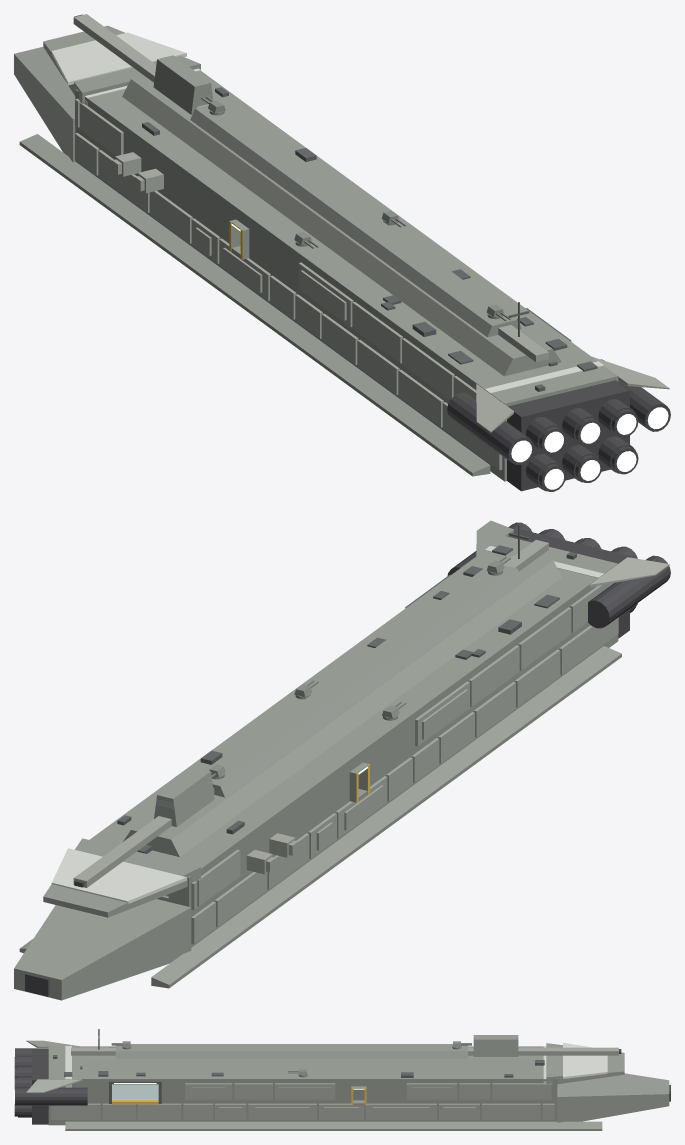
File: ship_SMALL_DROP_FRIGATE.glb
3 renders of one model, top to bottom at view 1: azimuth 30°, elevation 25°; view 2: azimuth 150°, elevation 25°; view 3: azimuth 270°, elevation 25°, orthographic. The views are drawn at different scales.
Parts seen in each view (by area): view 1: SMALL_DROP_FRIGATE_Hull-col, SMALL_DROP_FRIGATE_Armor, SMALL_DROP_FRIGATE_Engines, SMALL_DROP_FRIGATE_Accent, SMALL_DROP_FRIGATE_EngineGlow, SMALL_DROP_FRIGATE_Details; view 2: SMALL_DROP_FRIGATE_Hull-col, SMALL_DROP_FRIGATE_Armor, SMALL_DROP_FRIGATE_Engines, SMALL_DROP_FRIGATE_Accent, SMALL_DROP_FRIGATE_Details; view 3: SMALL_DROP_FRIGATE_Hull-col, SMALL_DROP_FRIGATE_Armor, SMALL_DROP_FRIGATE_Engines, SMALL_DROP_FRIGATE_Accent, SMALL_DROP_FRIGATE_CargoBayDoor-col, SMALL_DROP_FRIGATE_CargoBayShield, SMALL_DROP_FRIGATE_Details, SMALL_DROP_FRIGATE_Trim, SMALL_DROP_FRIGATE_Hazard.
Boxes of the visible parts, bbox=[...] form: SMALL_DROP_FRIGATE_Hull-col: bbox=[14, 25, 618, 481]; SMALL_DROP_FRIGATE_Armor: bbox=[73, 14, 669, 470]; SMALL_DROP_FRIGATE_Engines: bbox=[74, 14, 670, 491]; SMALL_DROP_FRIGATE_Accent: bbox=[51, 32, 603, 393]; SMALL_DROP_FRIGATE_EngineGlow: bbox=[511, 407, 668, 489]; SMALL_DROP_FRIGATE_Details: bbox=[142, 87, 597, 391]; SMALL_DROP_FRIGATE_Hull-col: bbox=[14, 536, 621, 1000]; SMALL_DROP_FRIGATE_Armor: bbox=[73, 520, 669, 943]; SMALL_DROP_FRIGATE_Engines: bbox=[25, 522, 670, 996]; SMALL_DROP_FRIGATE_Accent: bbox=[51, 546, 603, 903]; SMALL_DROP_FRIGATE_Details: bbox=[117, 524, 576, 853]; SMALL_DROP_FRIGATE_Hull-col: bbox=[48, 1035, 669, 1130]; SMALL_DROP_FRIGATE_Armor: bbox=[26, 1040, 618, 1119]; SMALL_DROP_FRIGATE_Engines: bbox=[14, 1048, 670, 1124]; SMALL_DROP_FRIGATE_Accent: bbox=[65, 1043, 607, 1087]; SMALL_DROP_FRIGATE_CargoBayDoor-col: bbox=[112, 1084, 158, 1099]; SMALL_DROP_FRIGATE_CargoBayShield: bbox=[112, 1084, 158, 1099]; SMALL_DROP_FRIGATE_Details: bbox=[53, 1029, 544, 1077]; SMALL_DROP_FRIGATE_Trim: bbox=[109, 1080, 161, 1103]; SMALL_DROP_FRIGATE_Hazard: bbox=[112, 1088, 366, 1105].
Size of the model in its own units: 21.9 by 17.4 by 118.
